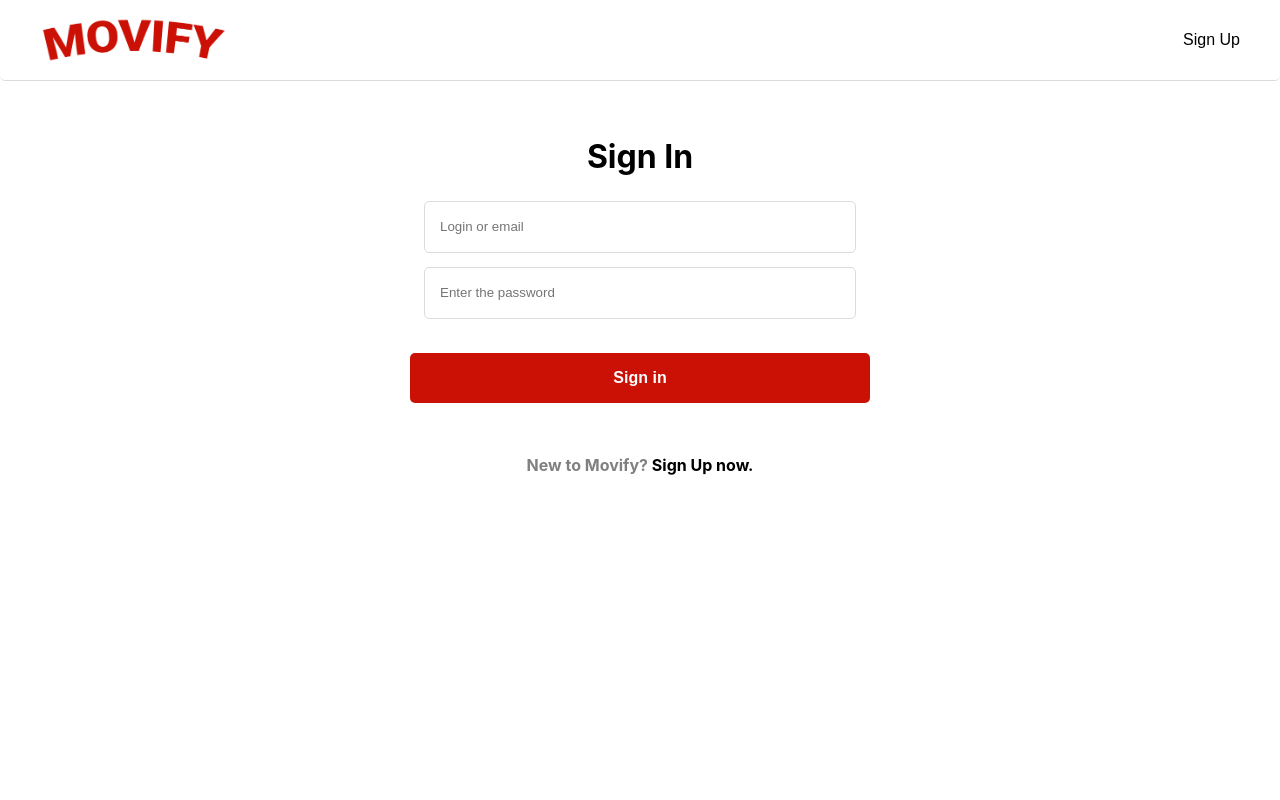
Test: Login Component › shows error when login is missing
Click the button "Sign in" at (640, 378), box [410,353,870,403]
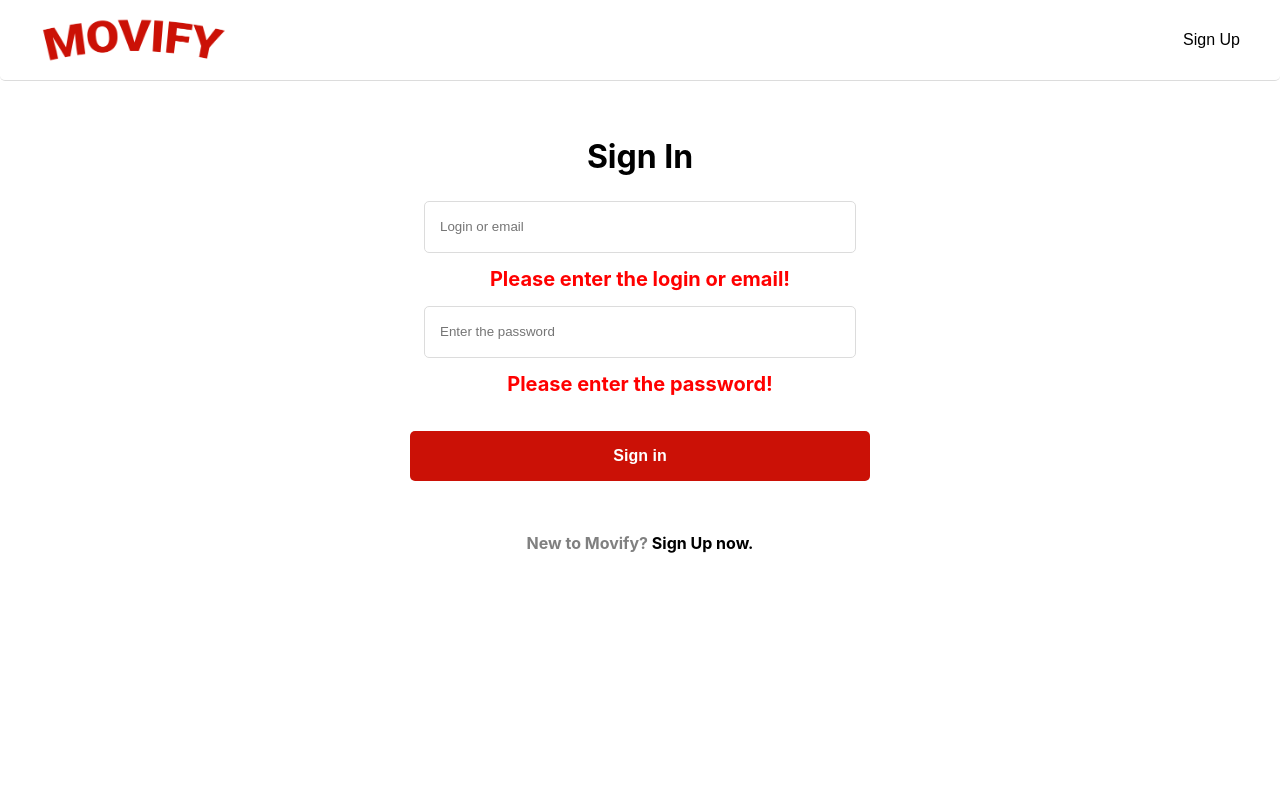
Now the text "Please enter the login or email!" is shown, box [490,267,790,291]
